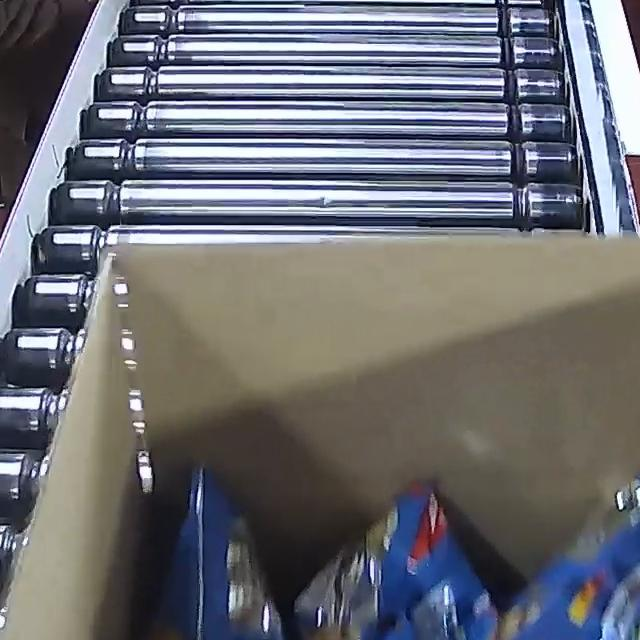paprika: (172, 479, 640, 640)
